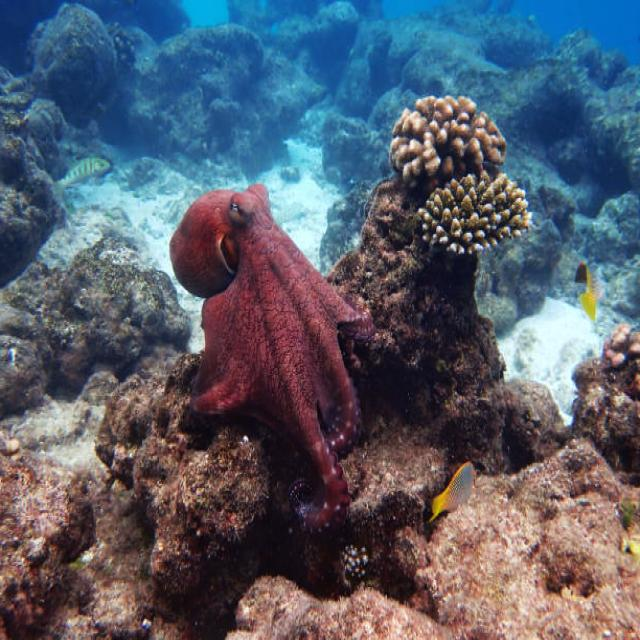Coral: (388, 94, 507, 190), (417, 170, 533, 256)
